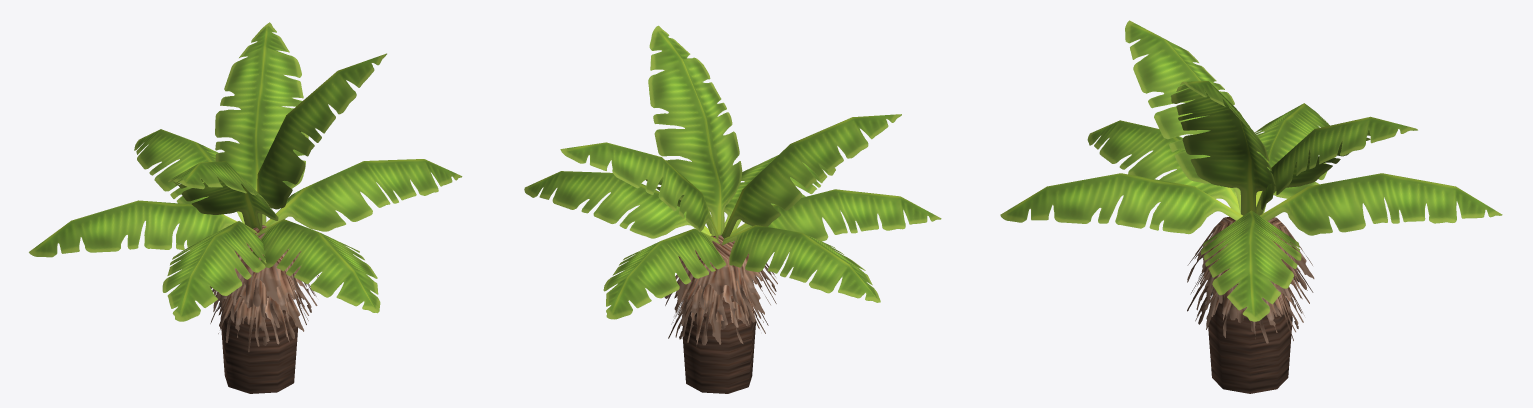
File: Ctn_PalmTree_01_v04.FBX
The picture shows the model from 3 angles, left to right: view 1: azimuth 30°, elevation 25°; view 2: azimuth 150°, elevation 25°; view 3: azimuth 270°, elevation 25°; orthographic projection. The views are drawn at different scales.
Parts seen in each view (by area): view 1: Ctn_PalmTree_01_v04; view 2: Ctn_PalmTree_01_v04; view 3: Ctn_PalmTree_01_v04.
Boxes of the visible parts, x1,y1,x2,y2 form: Ctn_PalmTree_01_v04: [29, 22, 462, 393]; Ctn_PalmTree_01_v04: [524, 25, 941, 393]; Ctn_PalmTree_01_v04: [1000, 20, 1502, 393].
Size of the model in its own units: 269 by 199 by 273.
